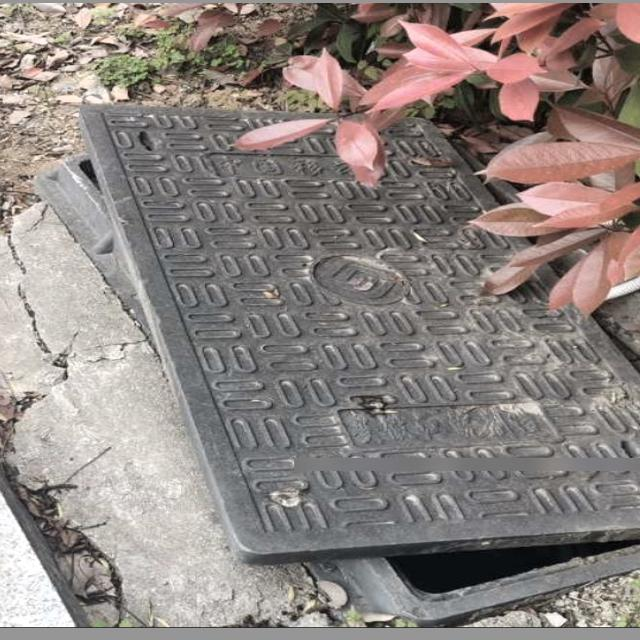uncovered: (36, 95, 640, 585)
